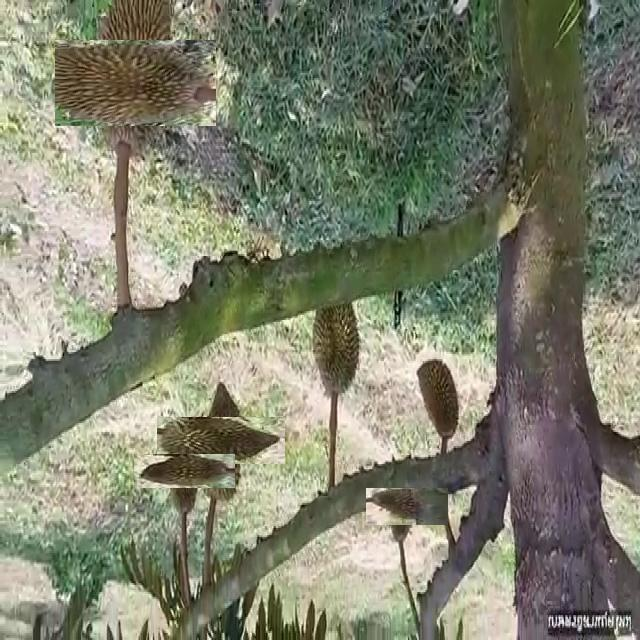durian: (73, 21, 197, 145), (178, 397, 266, 485), (308, 275, 362, 403), (150, 436, 218, 504), (416, 354, 465, 442), (377, 476, 437, 536)
